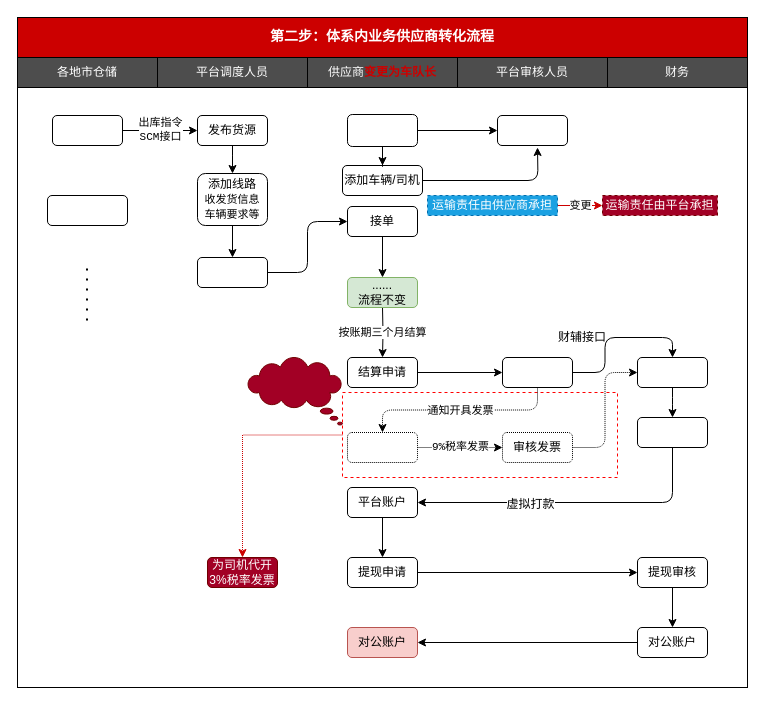
Some shapes in this 765 by 705 pixel diagram are drawn without their labels. Here are the shapes that lost their labels. From the top down, the centre of each, then its label:
pixel 87 130: 星沙仓储
pixel 382 130: 注册认证
pixel 532 130: 资质审核
pixel 87 210: 易家湾仓储
pixel 232 272: 竞价/指派
pixel 294 390: 停止开票 由平台代开
pixel 537 372: 对账审核
pixel 672 372: 财务审核
pixel 382 447: 线下发票邮寄
pixel 672 432: 财务虚拟打款
